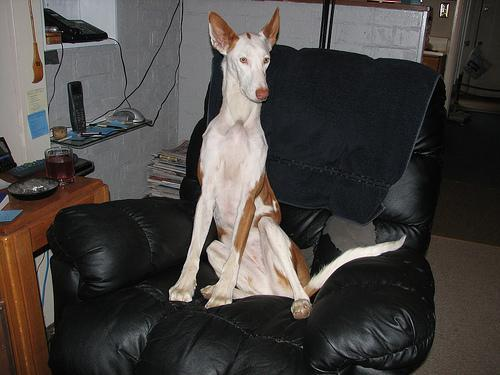Ibizan_hound: (168, 5, 408, 316)
